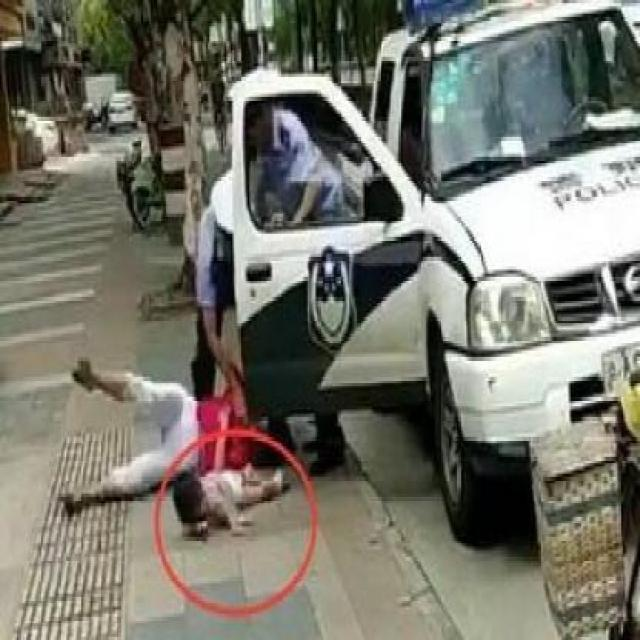fall: (160, 437, 294, 540)
